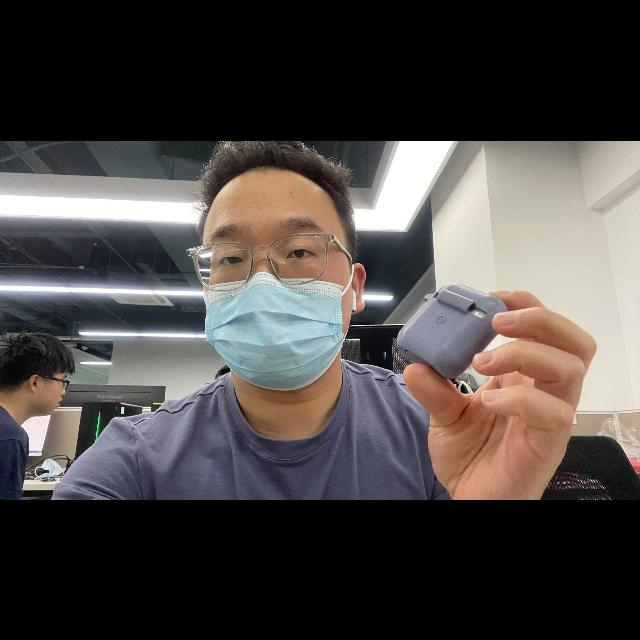airpods: (395, 281, 509, 383)
